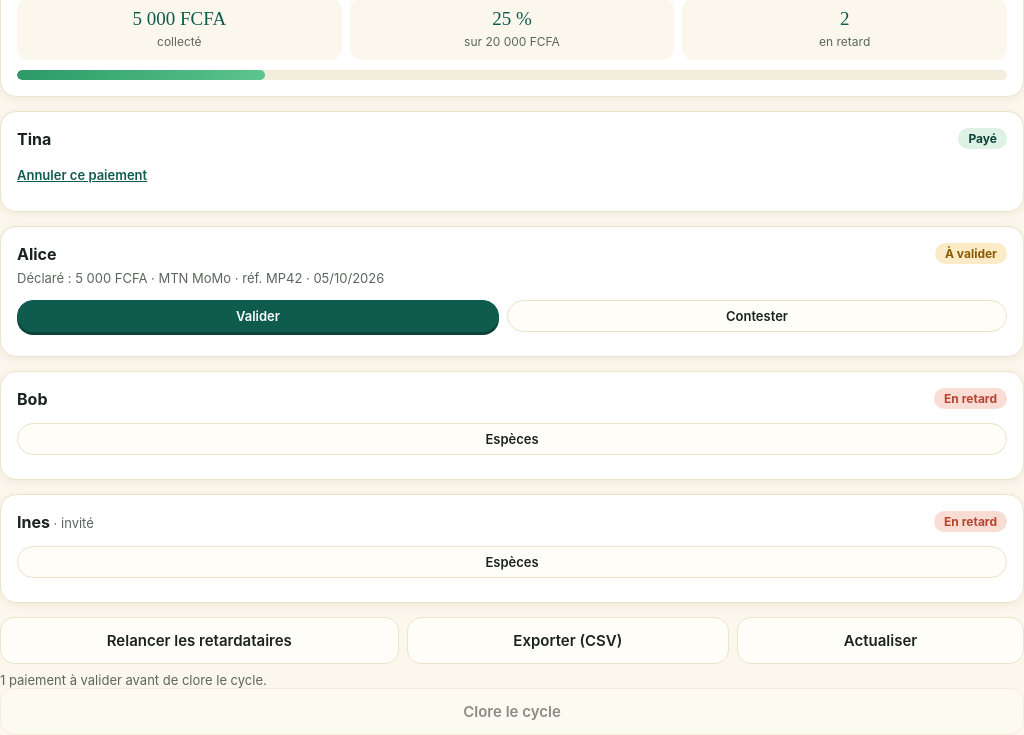
espace du groupe › un rechargement raté garde l'écran, affiche l'erreur et propose de réessayer
The width and height of the screenshot is (1024, 735).
(page scrolled)
Click the button "Actualiser" at (881, 640), box [737,617,1023,664]
(page scrolled)
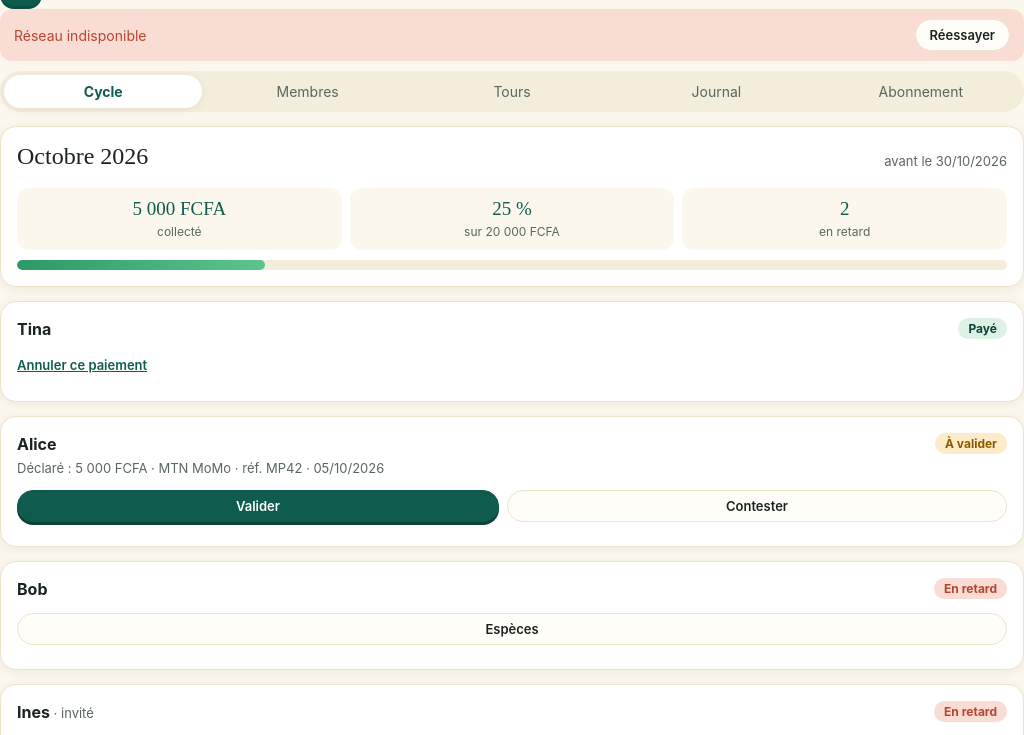
Expected: the heading "Octobre 2026" is shown, [17,143,148,170]
Result: the text "Réseau indisponible" is shown at [14,26,146,44]
Click the button "Réessayer" at (962, 35), box [914,19,1010,51]
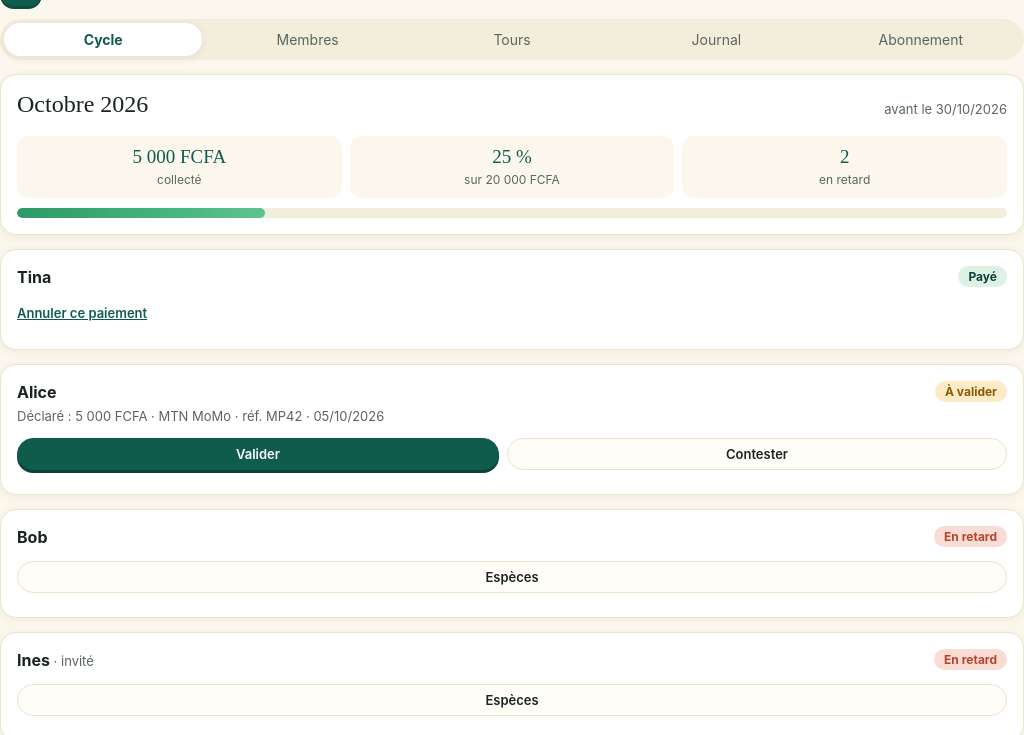
Result: the text "Réseau indisponible" is gone
